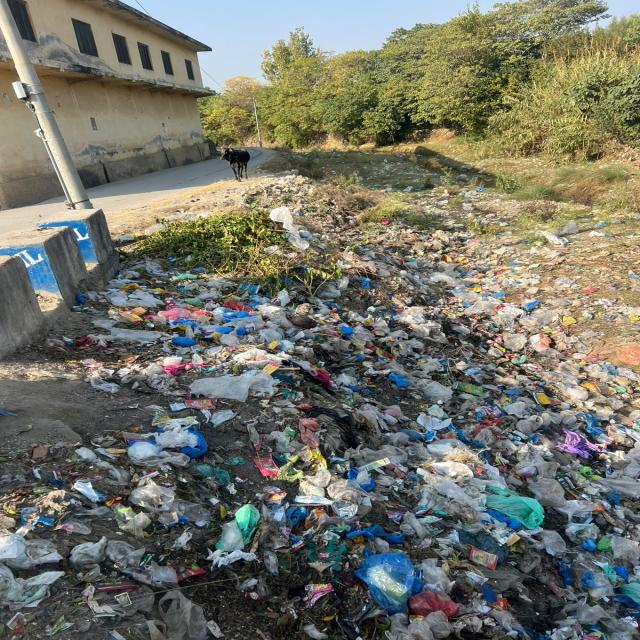garbage: (78, 267, 639, 638), (123, 216, 468, 266)
